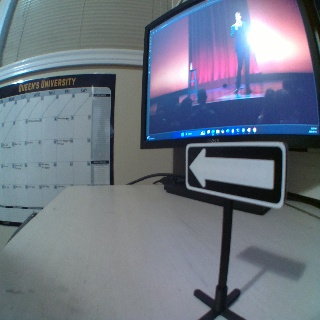sign_oneway_left: (185, 143, 286, 207)
